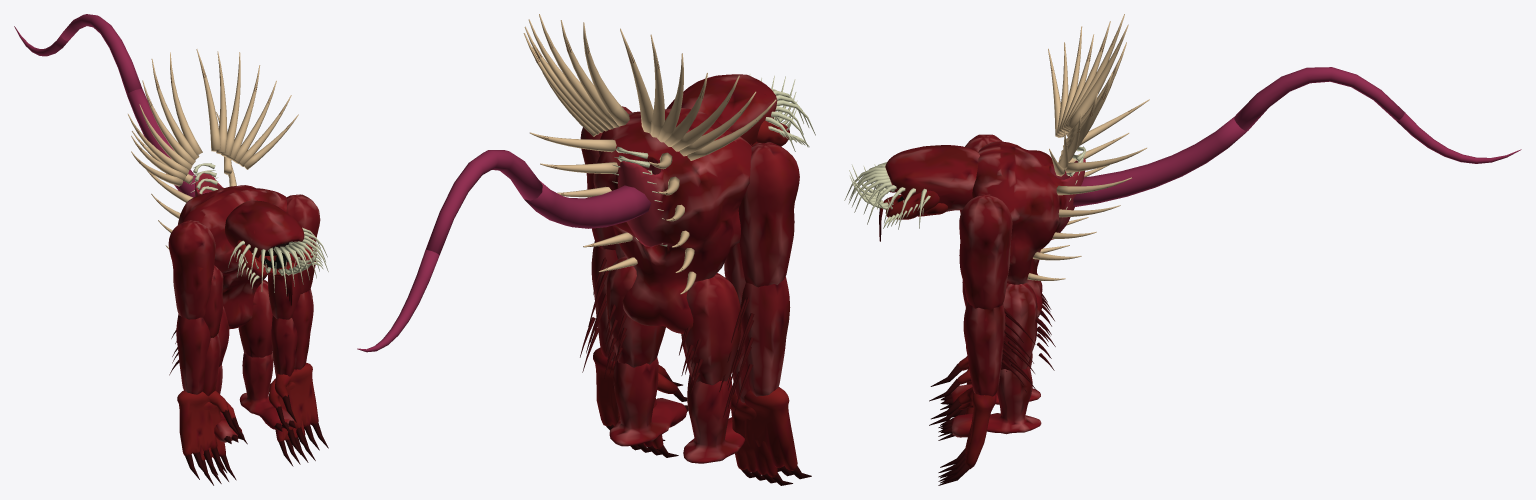
Rendered from quibungo.glb.
3 renders of one model, left to right at view 1: azimuth 30°, elevation 25°; view 2: azimuth 150°, elevation 25°; view 3: azimuth 270°, elevation 25°, orthographic. The views are drawn at different scales.
Parts seen in each view (by area): view 1: P_chest, P_neck, P_shR, P_handR, P_handL, P_elR, P_kneeL, P_tongue2, P_hipL, P_elL2, P_shL, P_tongue (+11 smaller); view 2: P_chest, P_shR, P_hipR, P_elR, P_neck, P_kneeL, P_kneeR, P_tongue, P_hipL, P_tongue2, P_handR, P_handR2 (+8 smaller); view 3: P_chest, P_neck, P_shL, P_tongue, P_elL, P_tongue2, P_kneeL, P_hipL, P_handL, P_tongue3, P_mandL, P_jaw.
Part boxes in pixels (bbox=[...]): P_chest: bbox=[128, 49, 298, 329]; P_neck: bbox=[225, 200, 328, 295]; P_shR: bbox=[168, 220, 215, 319]; P_handR: bbox=[177, 390, 239, 479]; P_handL: bbox=[275, 362, 328, 454]; P_elR: bbox=[169, 314, 210, 394]; P_kneeL: bbox=[239, 352, 295, 431]; P_tongue2: bbox=[61, 14, 142, 95]; P_hipL: bbox=[238, 280, 272, 357]; P_elL2: bbox=[271, 315, 297, 376]; P_shL: bbox=[286, 194, 320, 294]; P_tongue: bbox=[127, 89, 208, 197]; P_chest: bbox=[523, 14, 776, 333]; P_shR: bbox=[738, 142, 799, 287]; P_hipR: bbox=[679, 273, 741, 395]; P_elR: bbox=[728, 276, 790, 415]; P_neck: bbox=[666, 74, 815, 151]; P_kneeL: bbox=[609, 356, 688, 446]; P_kneeR: bbox=[683, 374, 745, 463]; P_tongue: bbox=[524, 180, 650, 228]; P_hipL: bbox=[603, 256, 665, 379]; P_tongue2: bbox=[425, 150, 542, 255]; P_handR: bbox=[744, 387, 811, 479]; P_handR2: bbox=[730, 391, 792, 485]; P_chest: bbox=[972, 14, 1149, 317]; P_neck: bbox=[844, 145, 979, 229]; P_shL: bbox=[959, 194, 1012, 309]; P_tongue: bbox=[1063, 117, 1247, 206]; P_elL: bbox=[963, 302, 1036, 396]; P_tongue2: bbox=[1234, 67, 1404, 130]; P_kneeL: bbox=[940, 364, 1041, 437]; P_hipL: bbox=[1001, 283, 1055, 371]; P_handL: bbox=[931, 387, 996, 483]; P_tongue3: bbox=[1397, 112, 1521, 163]; P_mandL: bbox=[883, 190, 939, 228]; P_jaw: bbox=[849, 164, 947, 241].
Bounding box in the file's own units: 1.46 × 3.02 × 4.37.
